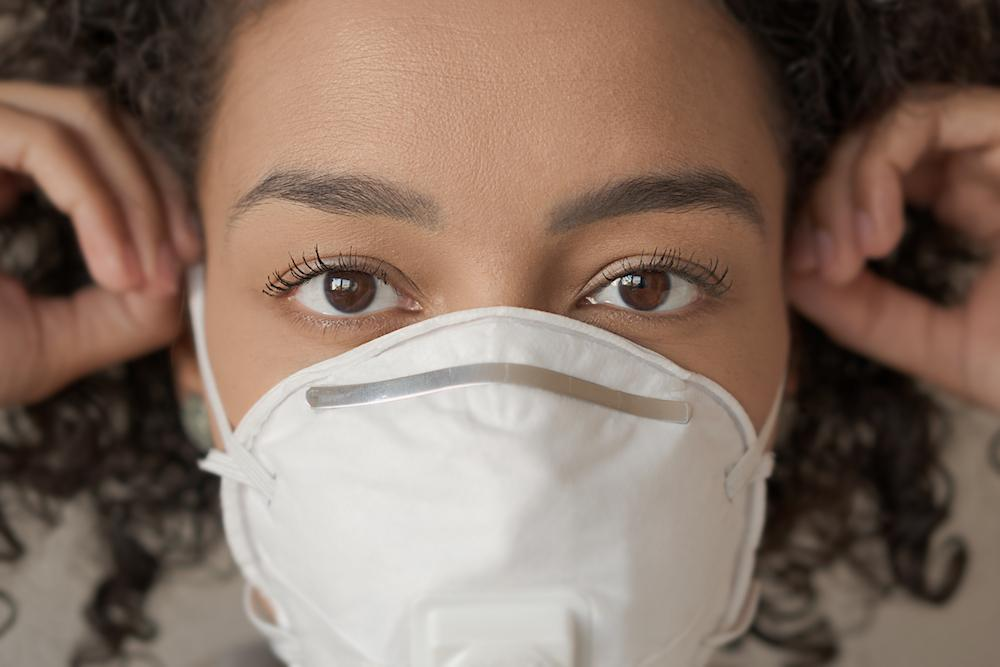mask: (182, 295, 817, 667)
